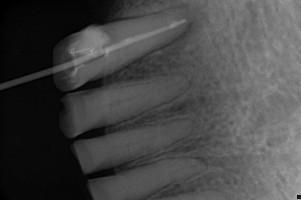Furcation Involvement: (159, 0, 209, 53)
